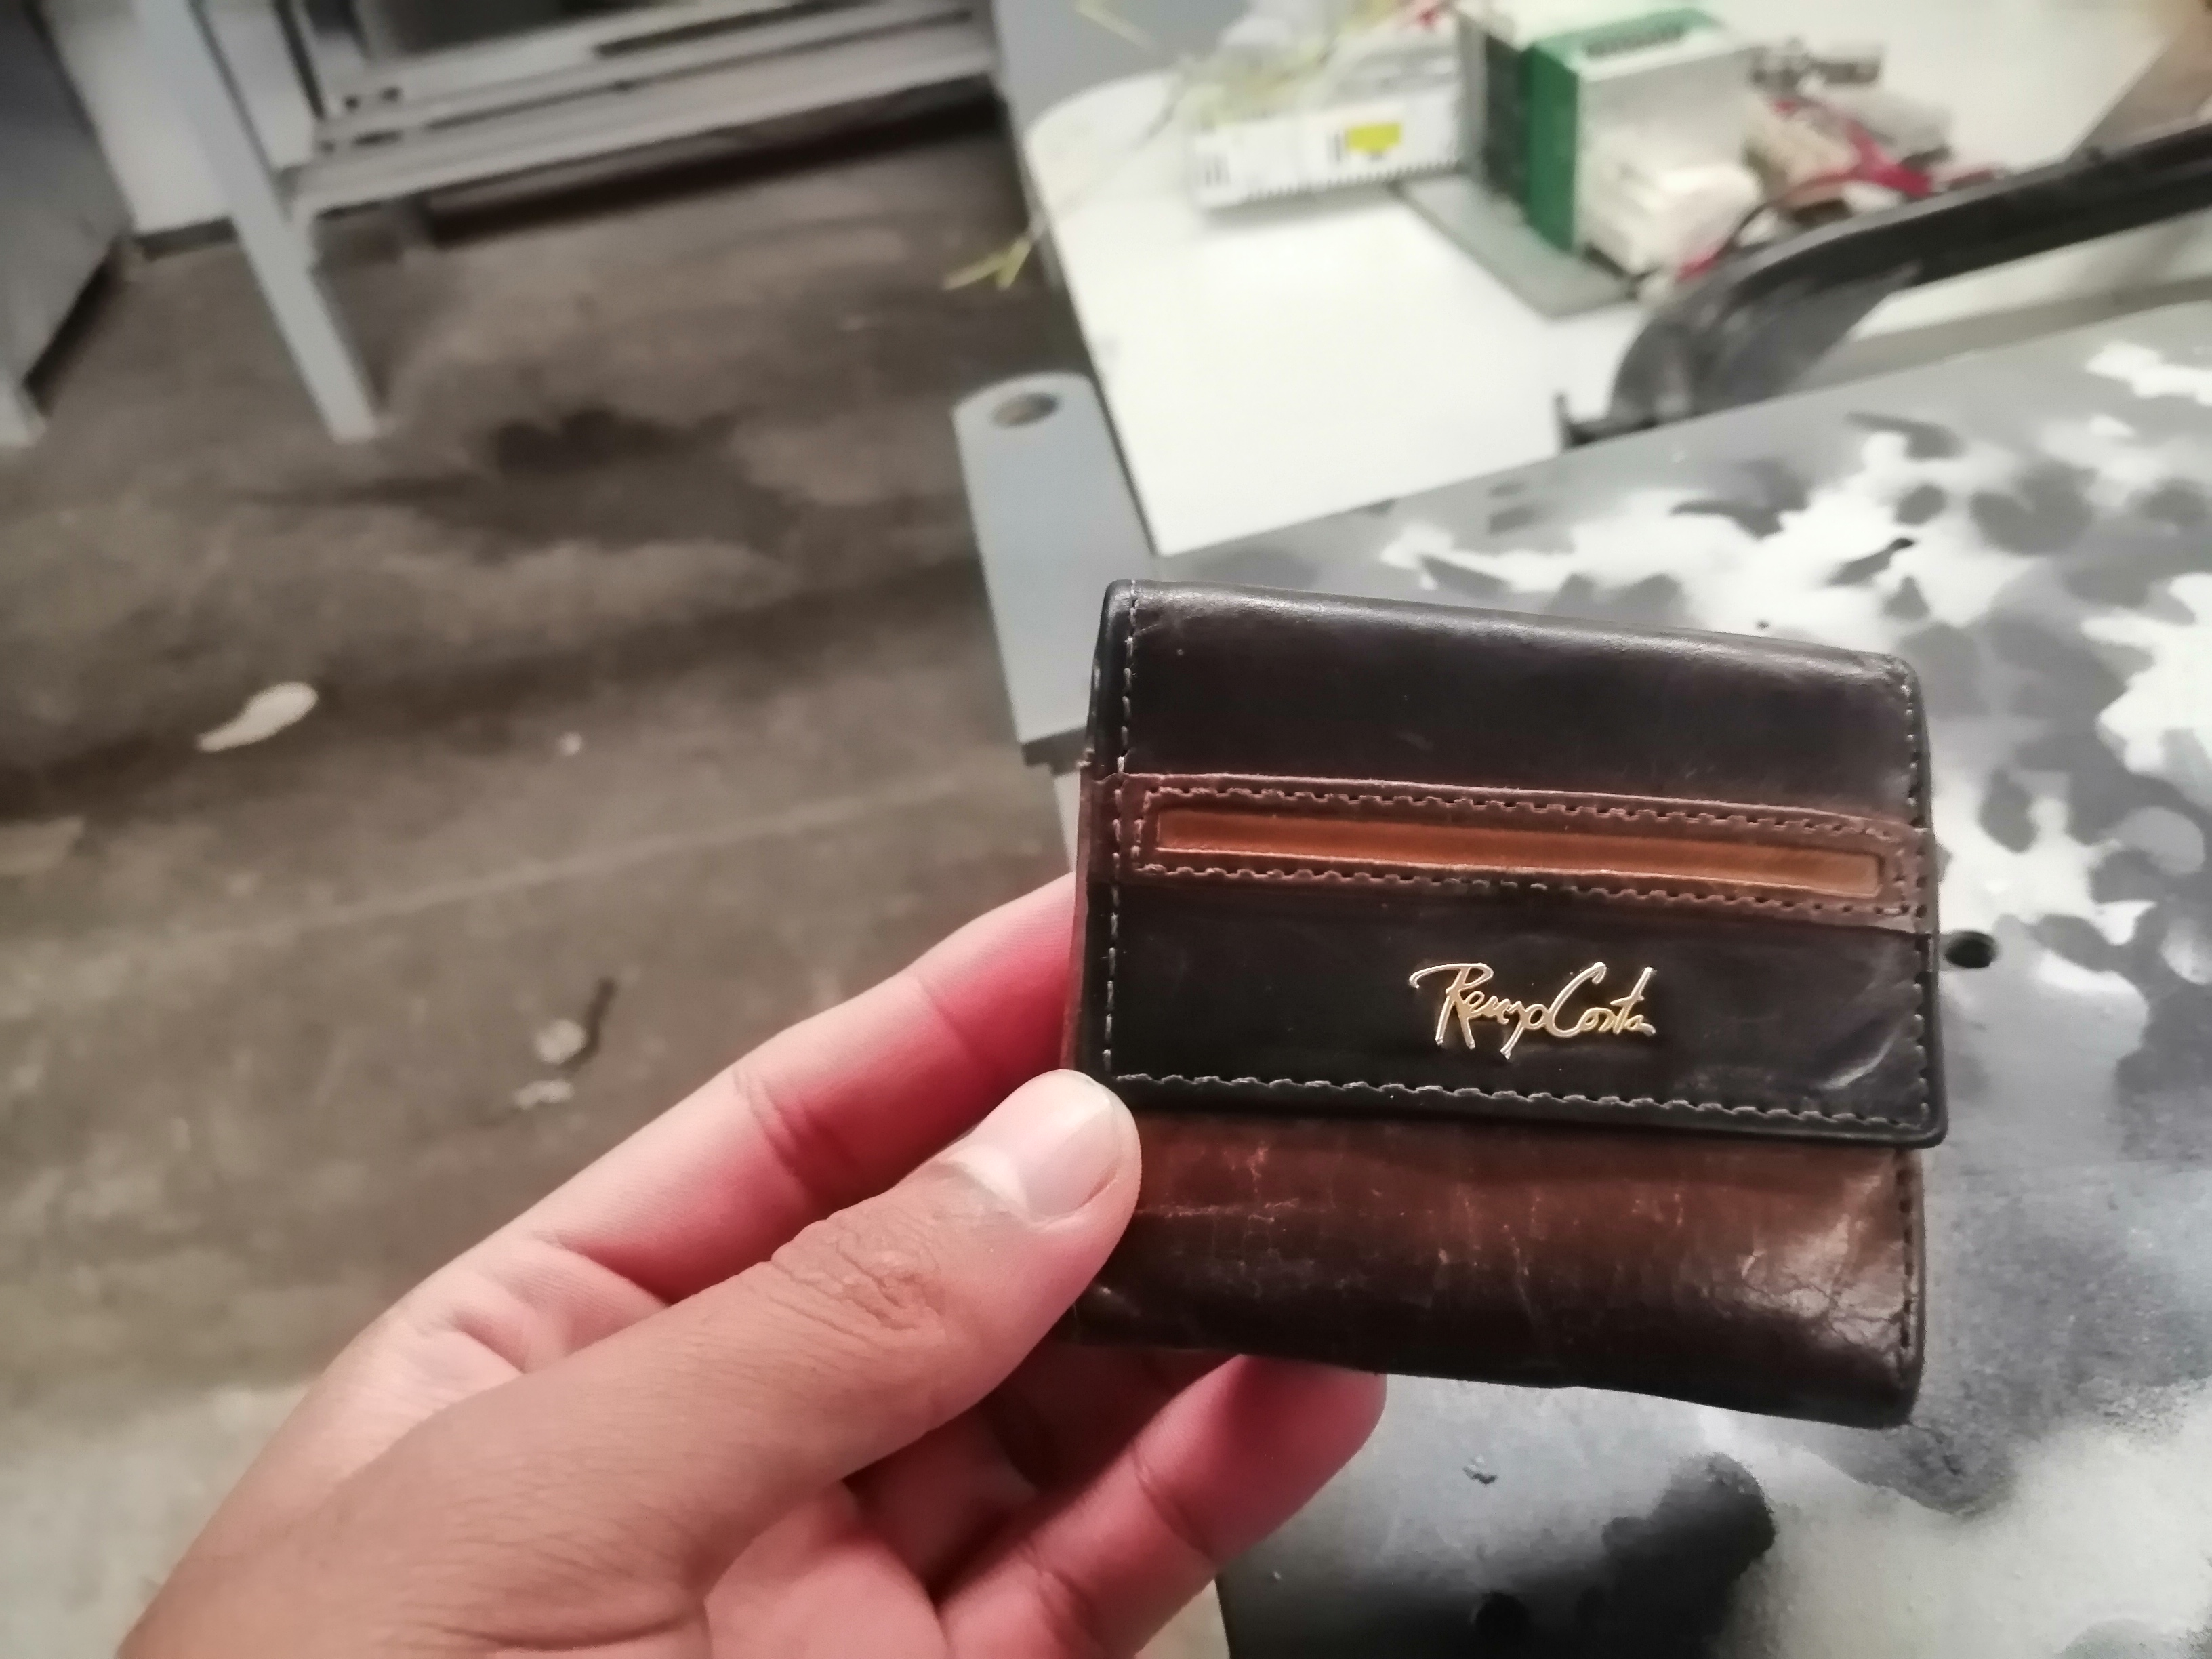monedero: (1038, 558, 1977, 1446)
